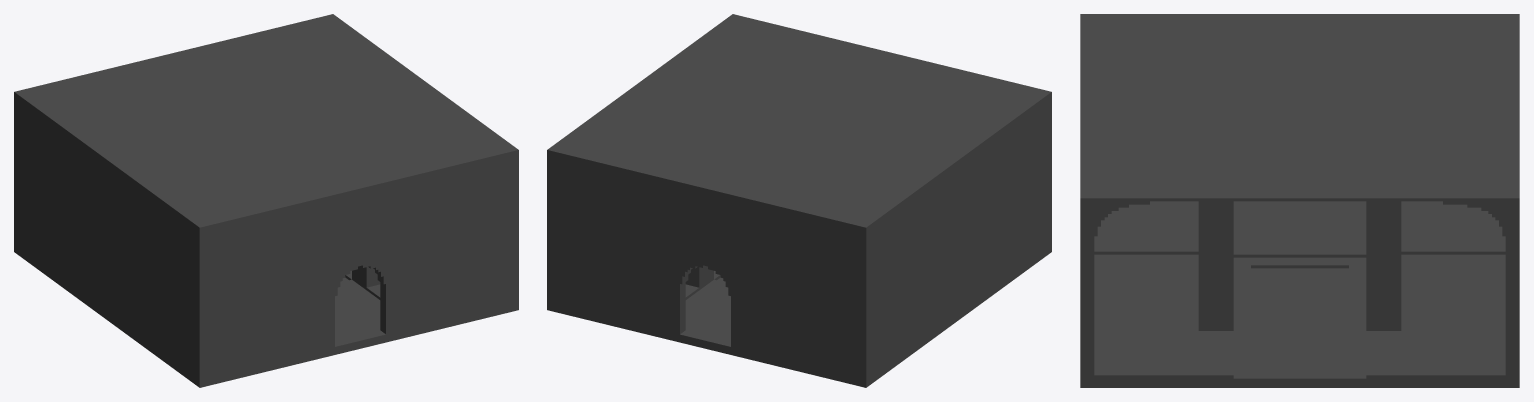
File: SmallArea02.obj
3 views of the same model, side by side, from view 1: azimuth 30°, elevation 25°; view 2: azimuth 150°, elevation 25°; view 3: azimuth 270°, elevation 25° (orthographic). The views are drawn at different scales.
Size of the model in its own units: 125 by 60 by 126.
Materials: 1 (1 with a texture image).
